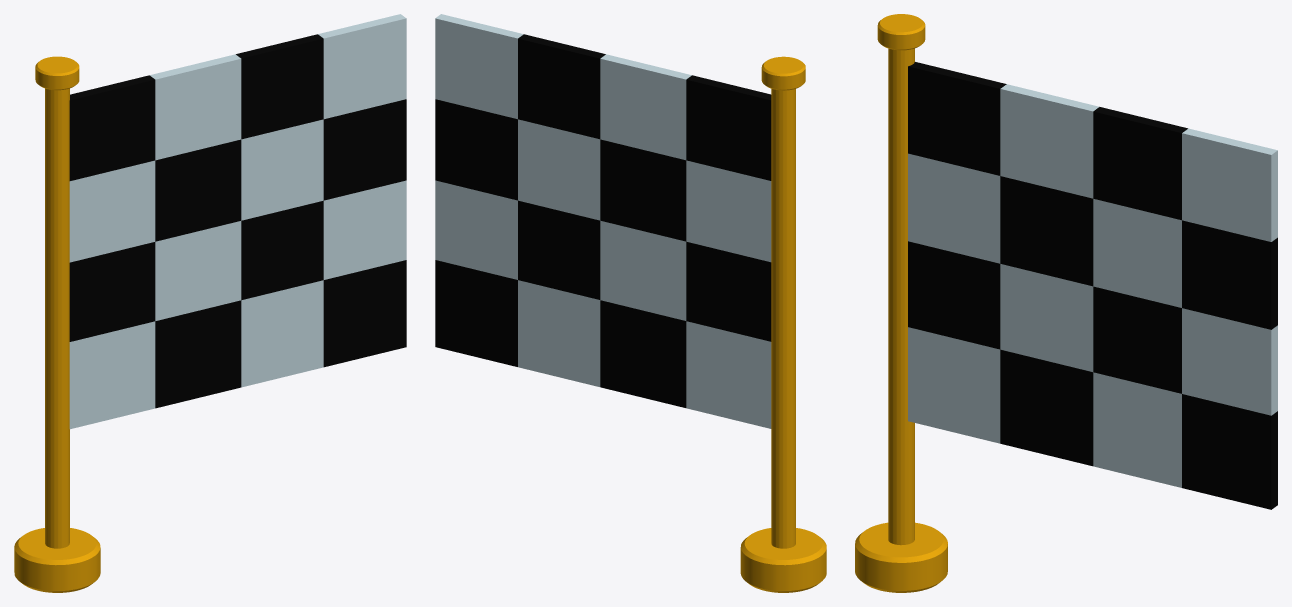
File: Goal.fbx
3 renders of one model, left to right at view 1: azimuth 30°, elevation 25°; view 2: azimuth 150°, elevation 25°; view 3: azimuth 330°, elevation 25°, orthographic. The views are drawn at different scales.
Visible parts, largest first — view 1: polySurface49; view 2: polySurface49; view 3: polySurface49.
Boxes of the visible parts, left/top/right/bottom form: polySurface49: left=14, top=14, right=406, bottom=592; polySurface49: left=435, top=14, right=826, bottom=592; polySurface49: left=855, top=14, right=1277, bottom=592.
Size of the model in its own units: 78.38 by 99.98 by 15.24.
